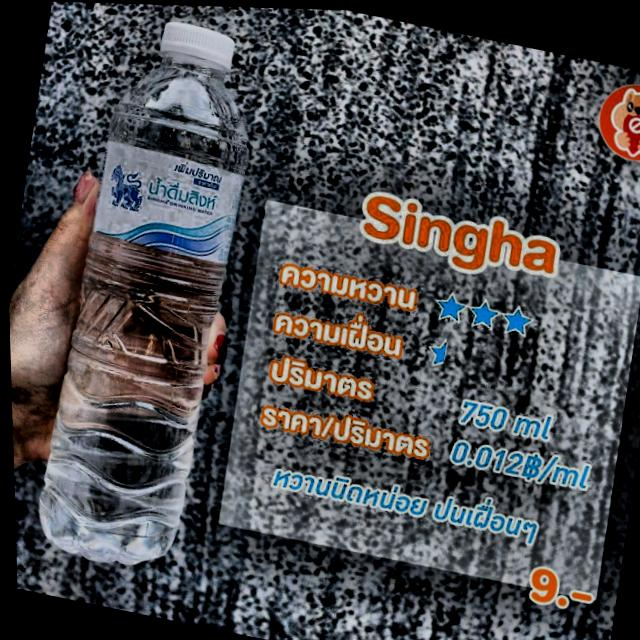Bottles: (0, 0, 310, 590)
